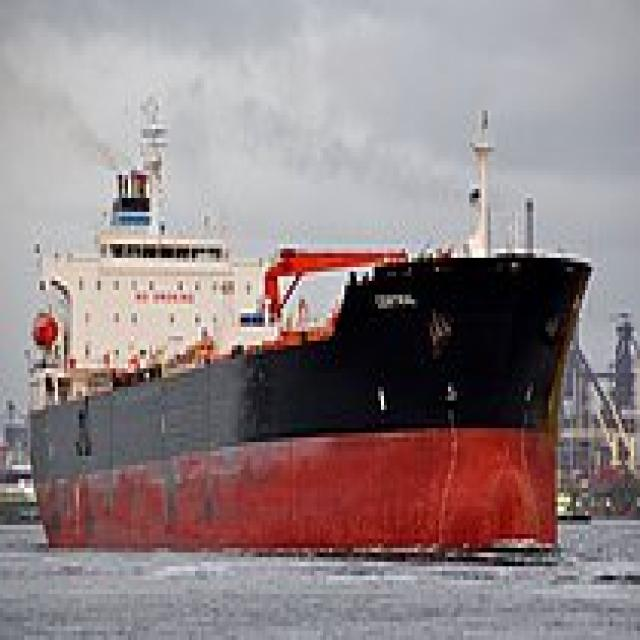Tanker: (21, 87, 592, 548)
